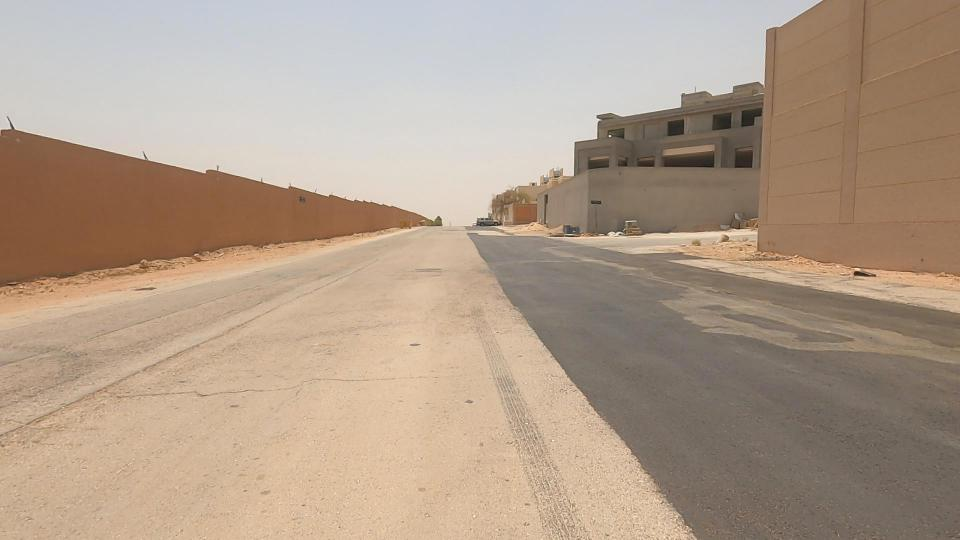GARBAGE: (822, 240, 893, 303), (573, 206, 652, 258)
